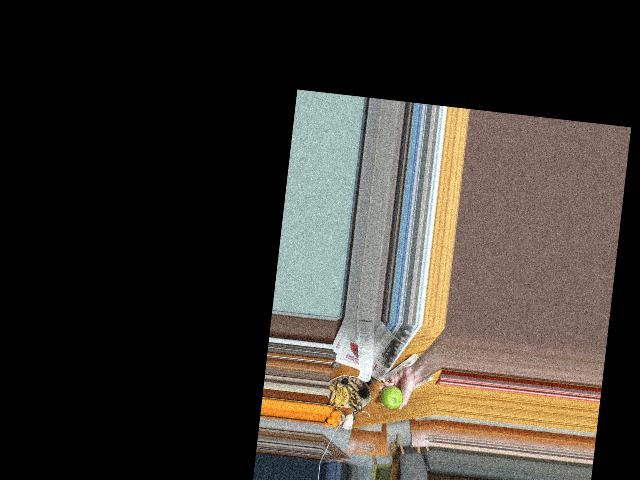apple: (380, 384, 405, 411)
